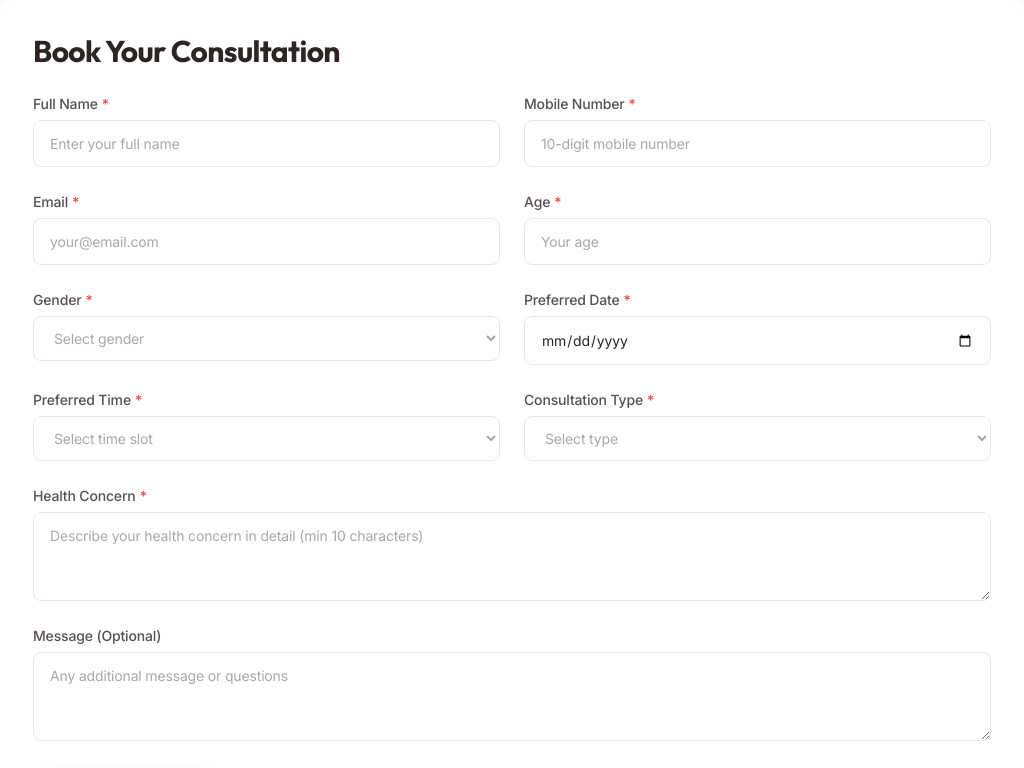
Test: AppointmentForm › Inline validation on blur › shows error for invalid age on blur
Step 1. Type "150" into the number field labelled "Age*" → x=758, y=242, box 524,218 -> 991,265
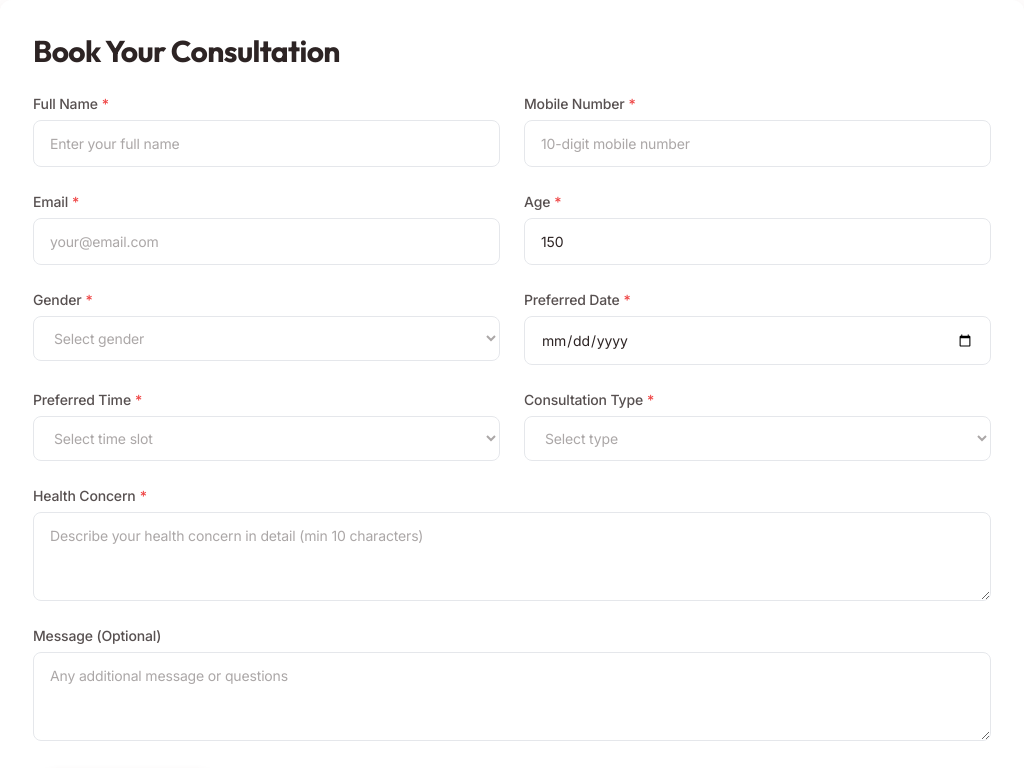
Step 2. Leave the number field labelled "Age*", box 524,218 -> 991,265
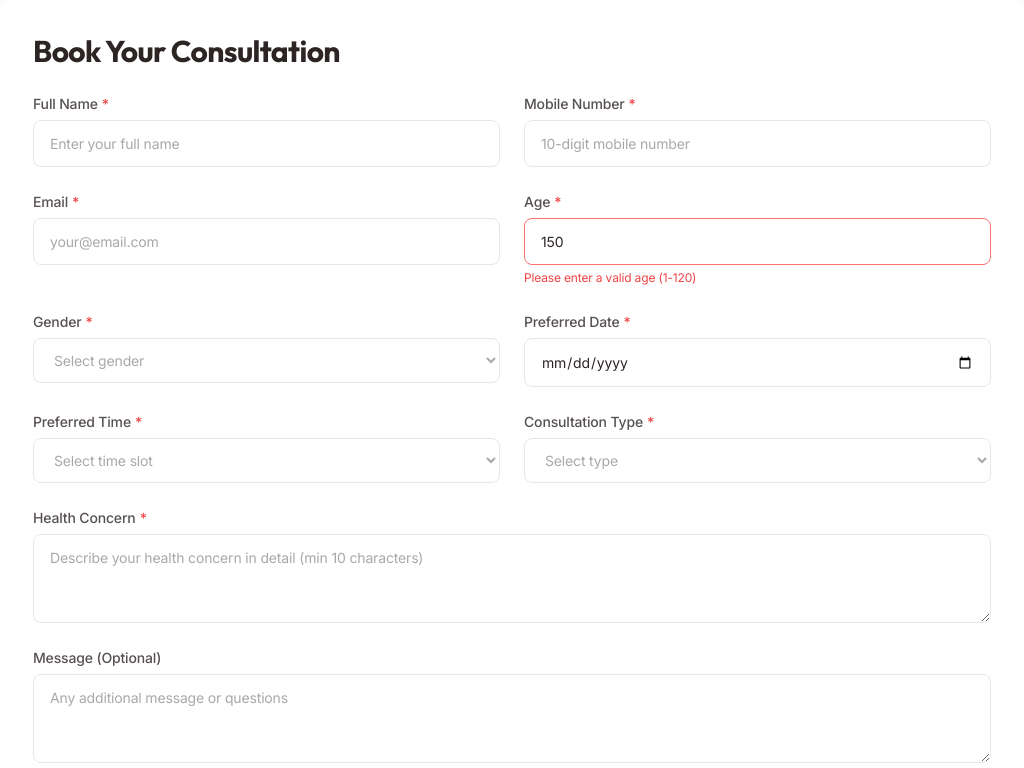
Now the text "Please enter a valid age (1-120)" is shown, box 524,270 -> 696,285
